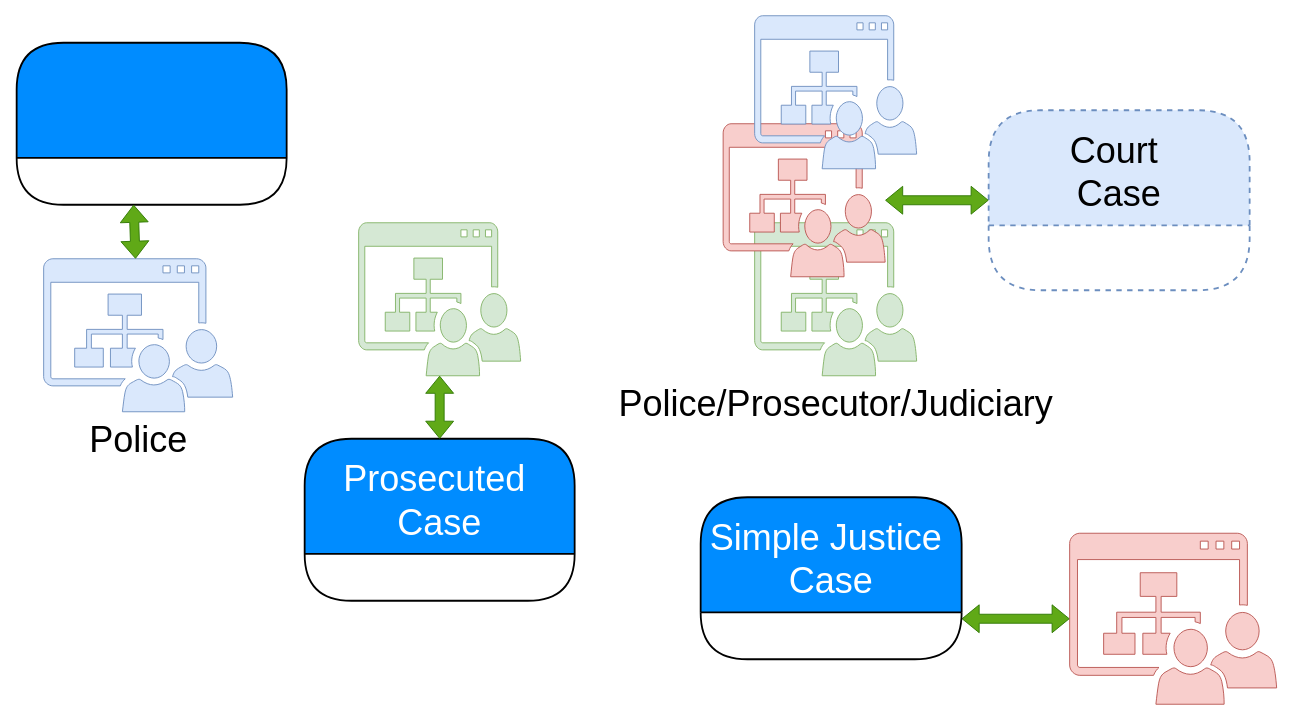
Image size: 1292x720. Some labels were removed from this diagram. Each missing label, with the box of its shape:
Judiciary: (1069, 532, 1277, 704)
Pre-Charge Case: (15, 41, 287, 205)
Prosecutor: (358, 222, 521, 376)
